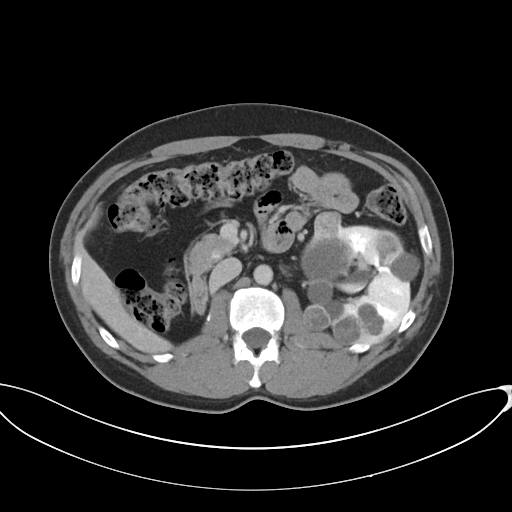Lesion: (298, 304, 331, 335)
